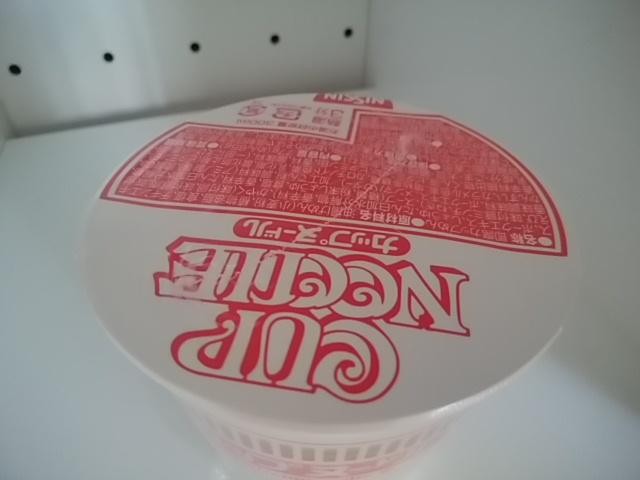cup-ramen: (69, 89, 577, 480)
